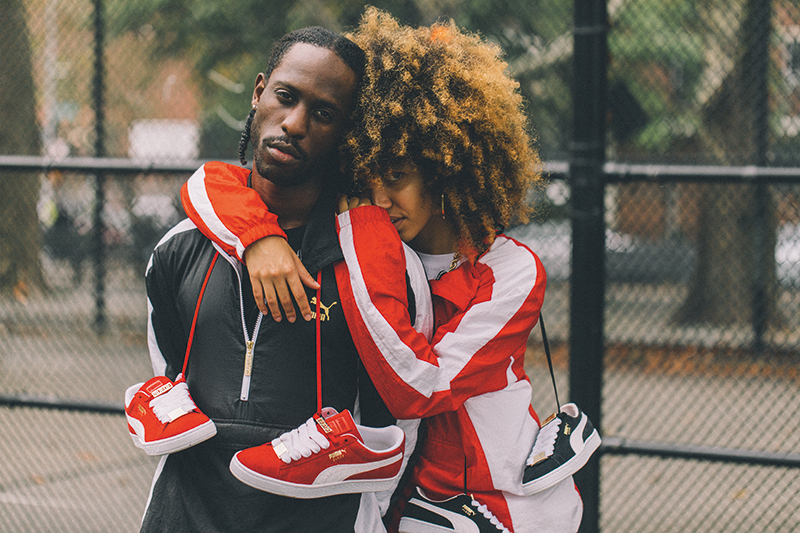Puma Suede Low Red: (221, 403, 415, 502), (115, 370, 220, 460)
